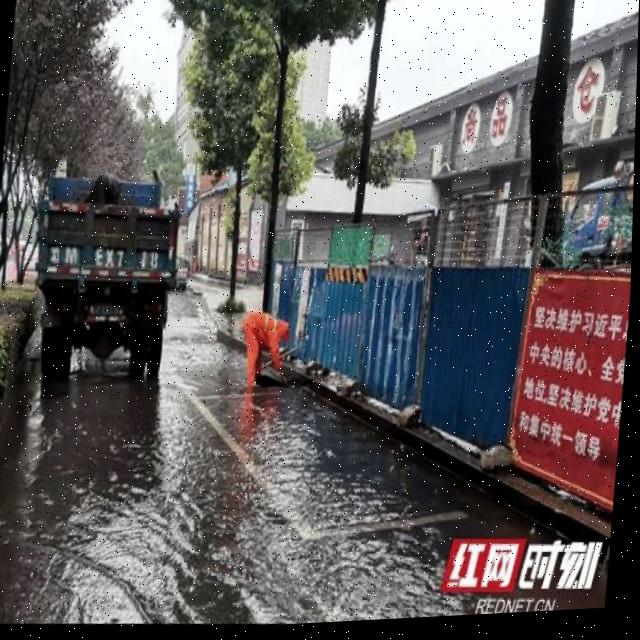rescuer: (226, 294, 300, 405)
